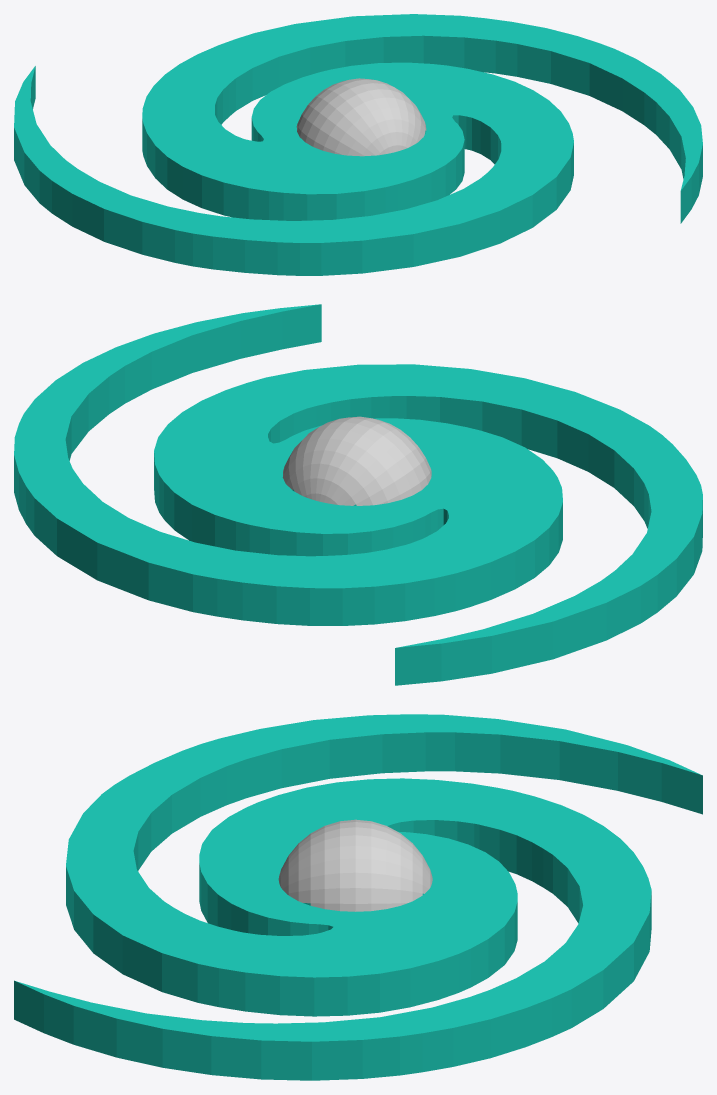
Rendered from spiral.dae.
3 renders of one model, top to bottom at view 1: azimuth 30°, elevation 25°; view 2: azimuth 150°, elevation 25°; view 3: azimuth 270°, elevation 25°, orthographic. The views are drawn at different scales.
Visible parts, largest first — view 1: node; view 2: node; view 3: node.
Part boxes in pixels (box(x1,y1,x2,y2)): node: box(14, 14, 702, 275); node: box(14, 304, 702, 685); node: box(14, 714, 702, 1080).
Bounding box in the file's own units: 1.98 × 1.76 × 0.4125.
